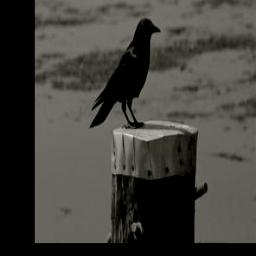Crow: (87, 14, 161, 134)
